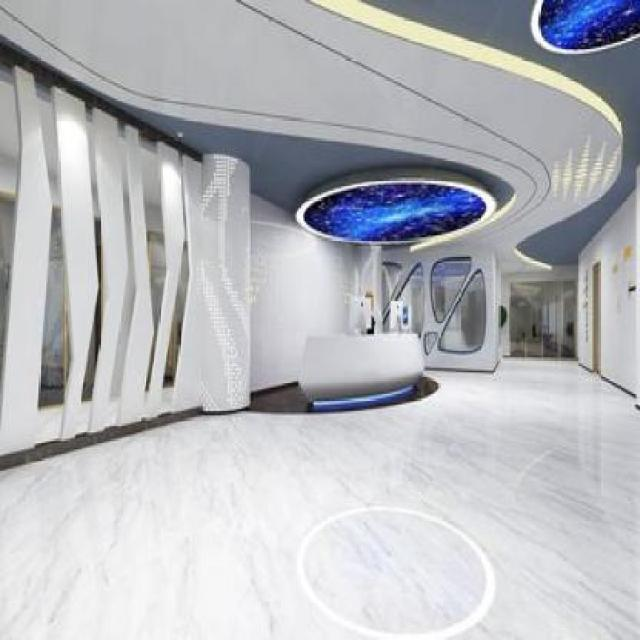frontdesk: (292, 323, 430, 418)
